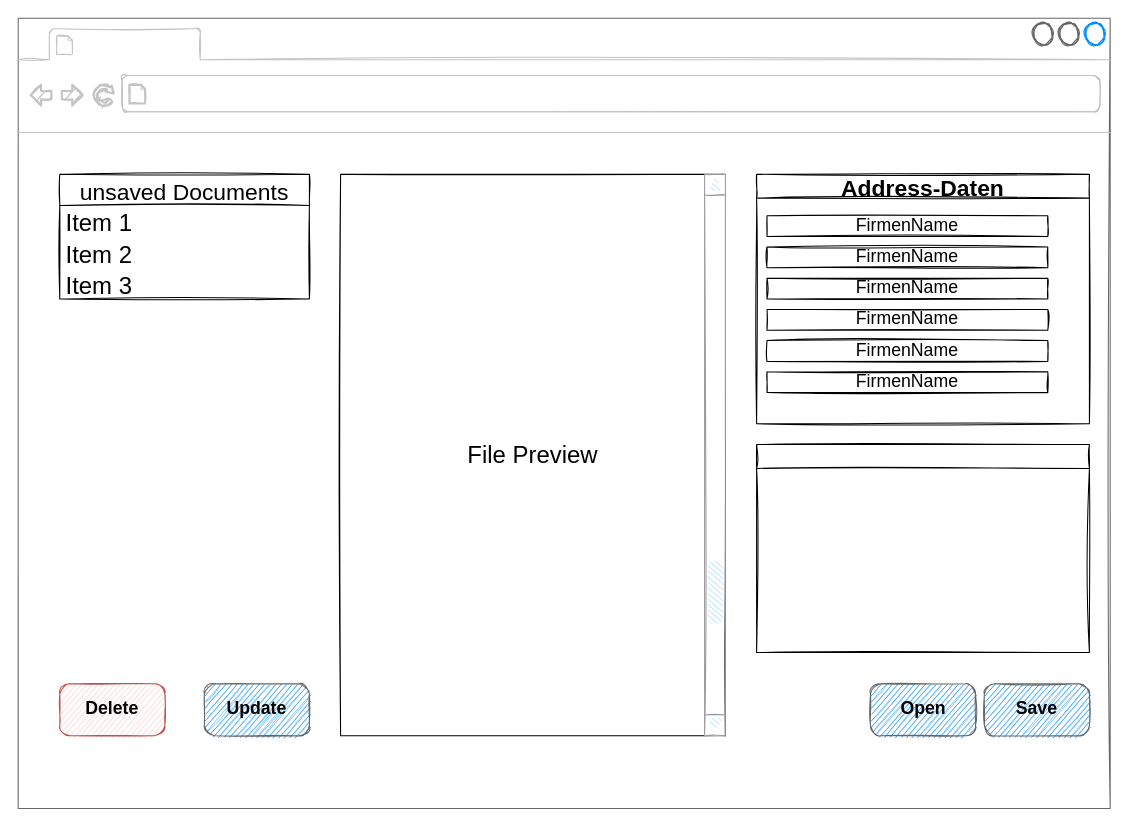
The diagram is 1128 pixels wide and 827 high, and some of its shapes have lost their labels. The centre of each missing label's shape, as x and y in pixels:
Dokument-Daten: point 922,548
https://www.horos-dms.ch: point 282,94
Page 1: point 137,44
